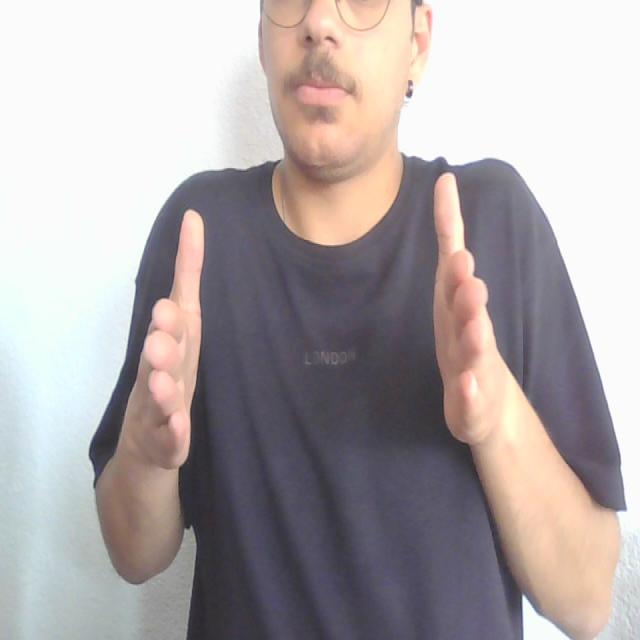Nasil: (116, 164, 524, 470)
